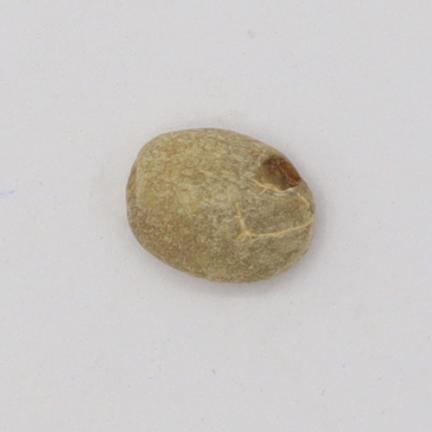broken: (127, 129, 314, 283)
